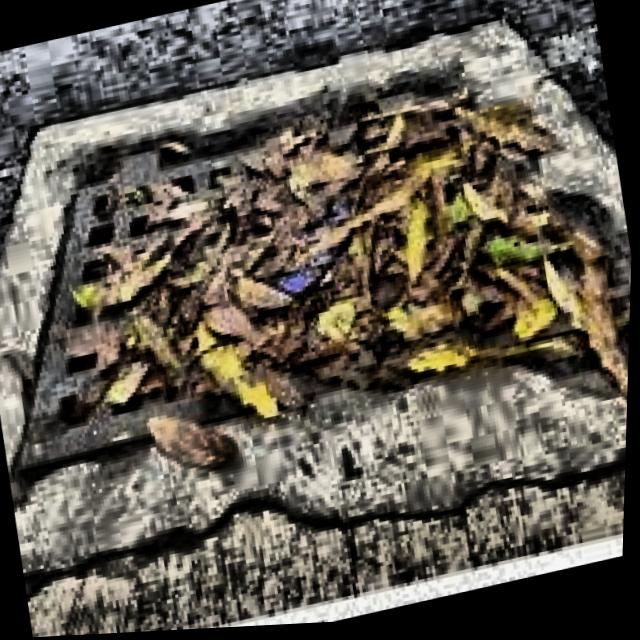clogged_drains: (23, 80, 632, 470)
